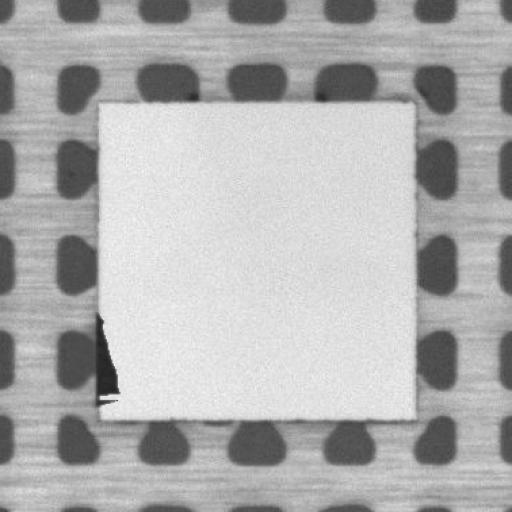DIE_BROKEN: (91, 306, 118, 406)
